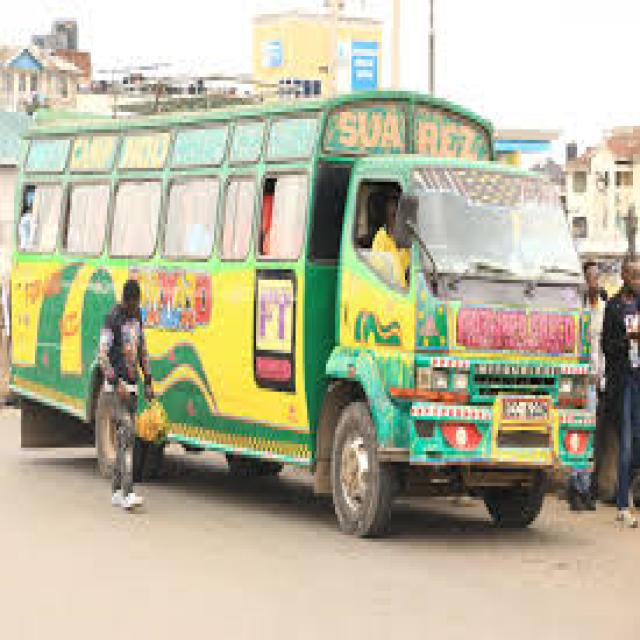bus: (3, 32, 633, 574)
